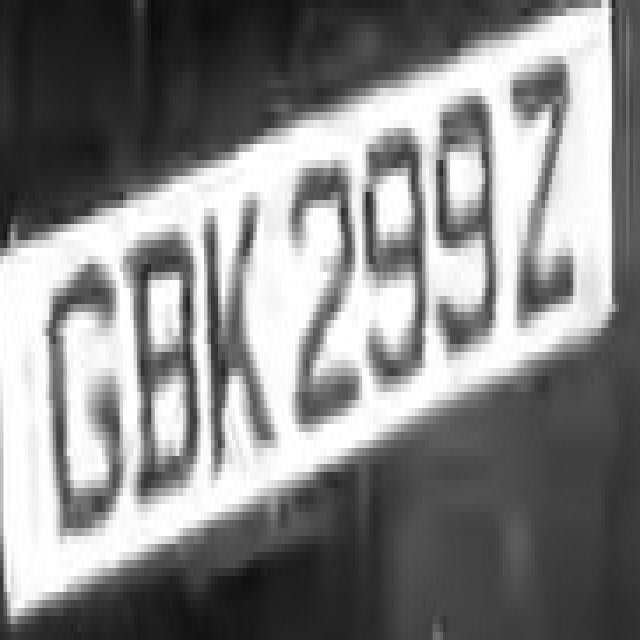2: (274, 136, 362, 448)
9: (422, 80, 510, 384), (355, 96, 433, 400)
B: (120, 200, 204, 520)
G: (39, 240, 123, 544)
K: (186, 160, 271, 488)
Z: (503, 40, 584, 328)
